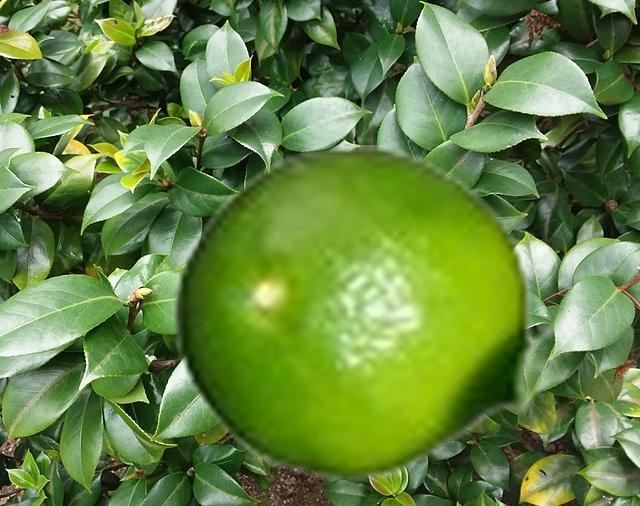calamansi: (170, 145, 575, 482)
